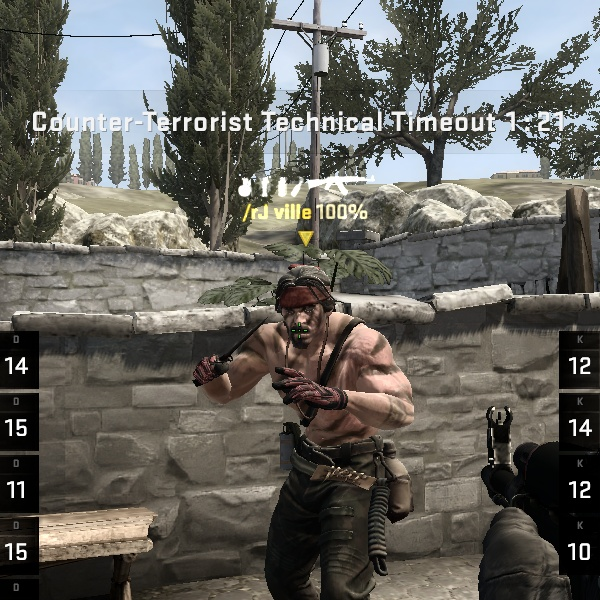t_body: (212, 254, 425, 596)
t_head: (260, 257, 348, 342)
